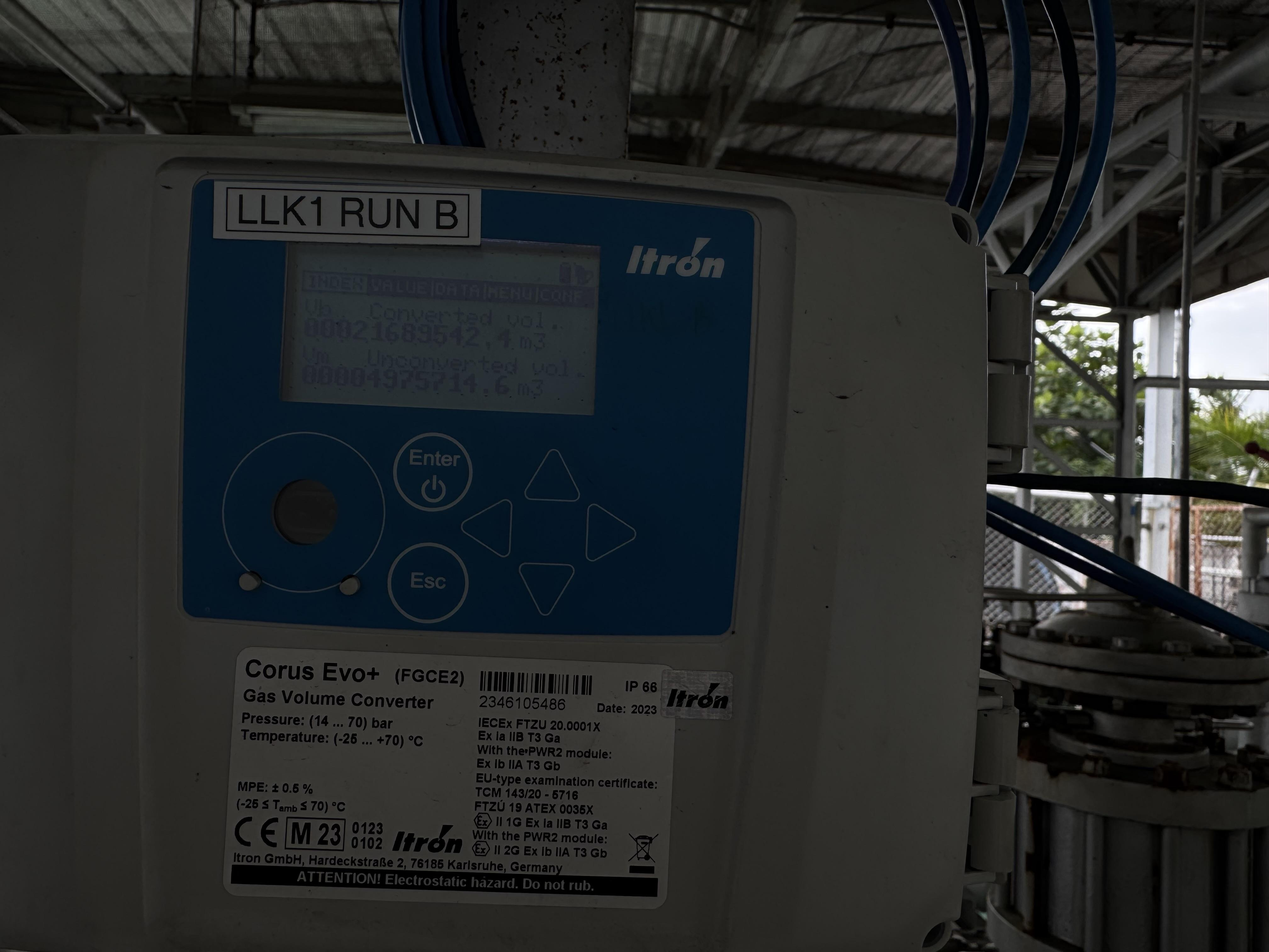digital_screen: (280, 230, 601, 415)
